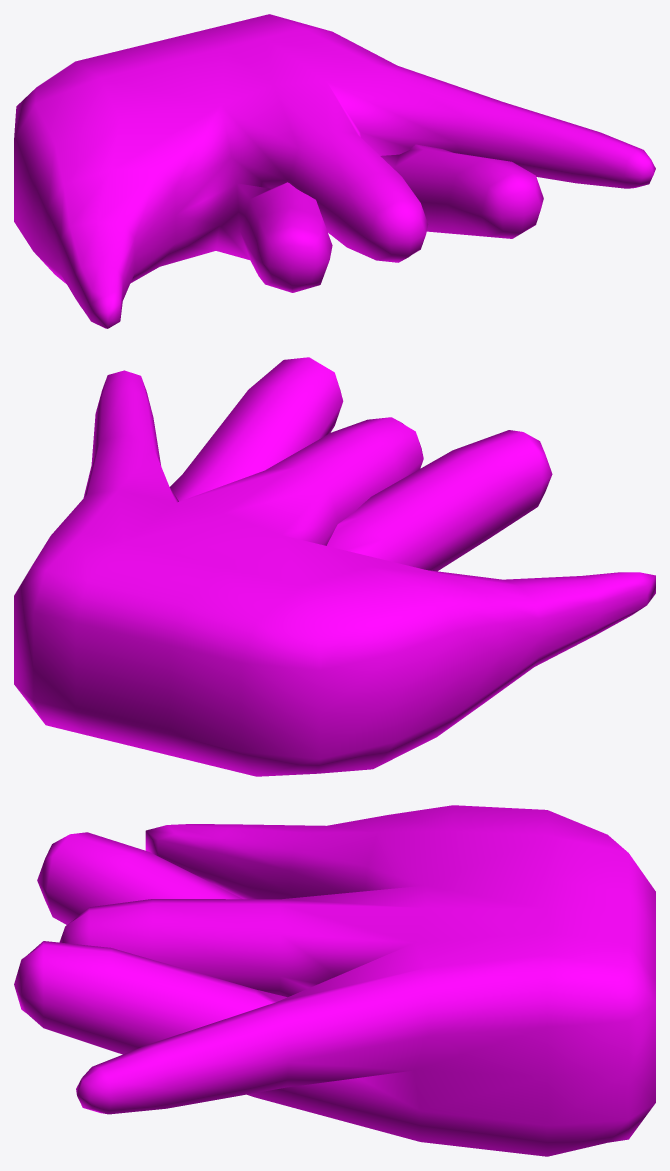
File: hands.fbx
The picture shows the model from 3 angles, top to bottom: view 1: azimuth 30°, elevation 25°; view 2: azimuth 150°, elevation 25°; view 3: azimuth 270°, elevation 25°; orthographic projection. The views are drawn at different scales.
Parts seen in each view (by area): view 1: pCube1; view 2: pCube1; view 3: pCube1.
Part boxes in pixels (x1,y1,x2,y2): pCube1: [14, 14, 655, 328]; pCube1: [14, 357, 655, 776]; pCube1: [14, 805, 655, 1156].
Bounding box in the file's own units: 45.78 × 14.2 × 39.92.
